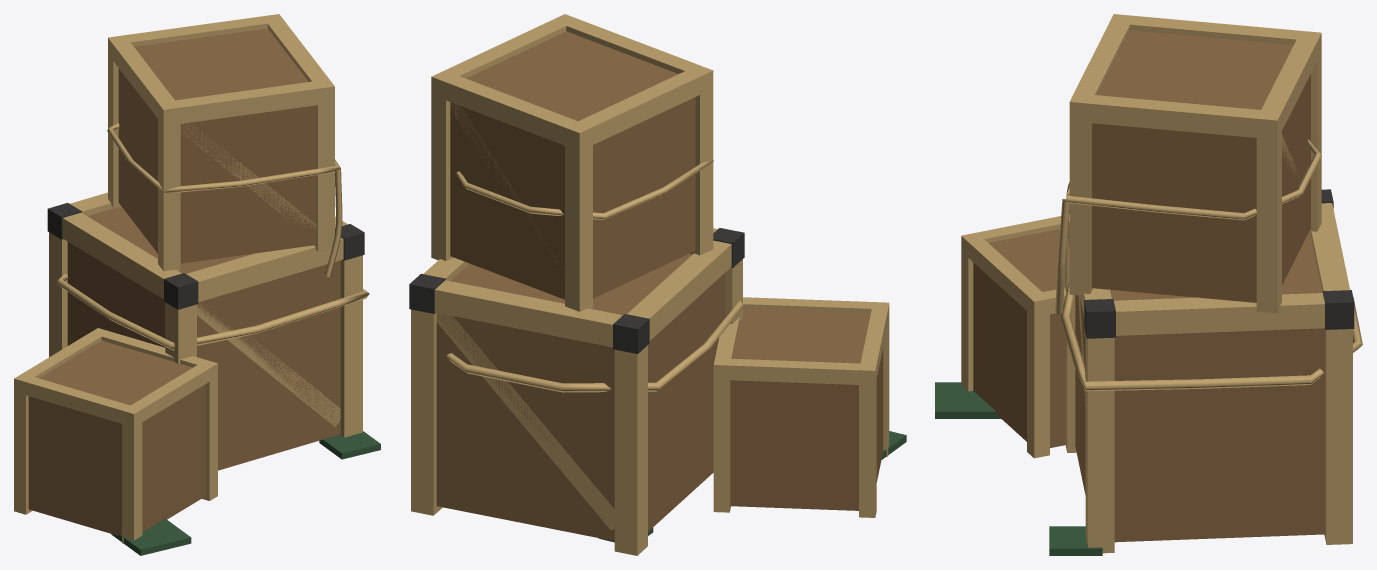
File: crate-stack.glb
3 views of the same model, side by side, from view 1: azimuth 30°, elevation 25°; view 2: azimuth 150°, elevation 25°; view 3: azimuth 270°, elevation 25° (orthographic). The views are drawn at different scales.
Parts seen in each view (by area): view 1: Mesh_Crate2_Core, Mesh_Crate1_Core, Mesh_Crate3_Core, Mesh_Crate1_RailTopX1, Mesh_Crate1_Pillar0, Mesh_Crate2_Pillar2, Mesh_Crate1_RailTopZ2, Mesh_Crate2_RailTopX1, Mesh_Crate2_Pillar0, Mesh_Crate3_Pillar2, Mesh_Crate1_Brace1, Mesh_Crate1_Rope (+21 smaller); view 2: Mesh_Crate1_Core, Mesh_Crate2_Core, Mesh_Crate3_Core, Mesh_Crate1_Pillar3, Mesh_Crate1_RailTopX2, Mesh_Crate1_Pillar1, Mesh_Crate2_Pillar3, Mesh_Crate1_Brace2, Mesh_Crate1_RailTopZ2, Mesh_Crate2_Pillar1, Mesh_Crate2_RailTopX2, Mesh_Crate2_Pillar2 (+18 smaller); view 3: Mesh_Crate1_Core, Mesh_Crate2_Core, Mesh_Crate3_Core, Mesh_Crate1_RailTopZ1, Mesh_Crate1_Pillar0, Mesh_Crate1_Pillar1, Mesh_Crate2_Pillar1, Mesh_Crate2_RailTopZ1, Mesh_Crate2_Pillar0, Mesh_Crate3_Pillar0, Mesh_Crate1_Rope, Mesh_Crate2_RailTopZ2 (+14 smaller).
Part boxes in pixels (x1,y1,x2,y2): Mesh_Crate2_Core: (118, 28, 316, 263); Mesh_Crate1_Core: (67, 207, 340, 470); Mesh_Crate3_Core: (28, 340, 205, 535); Mesh_Crate1_RailTopX1: (186, 237, 343, 302); Mesh_Crate1_Pillar0: (340, 255, 362, 437); Mesh_Crate2_Pillar2: (158, 100, 180, 271); Mesh_Crate1_RailTopZ2: (62, 212, 181, 299); Mesh_Crate2_RailTopX1: (175, 81, 317, 123); Mesh_Crate2_Pillar0: (312, 79, 334, 251); Mesh_Crate3_Pillar2: (122, 405, 142, 543); Mesh_Crate1_Brace1: (197, 303, 340, 426); Mesh_Crate1_Rope: (56, 274, 369, 350); Mesh_Crate1_Core: (436, 253, 725, 540); Mesh_Crate2_Core: (450, 31, 695, 299); Mesh_Crate3_Core: (730, 308, 883, 510); Mesh_Crate1_Pillar3: (614, 345, 647, 555); Mesh_Crate1_RailTopX2: (434, 280, 622, 347); Mesh_Crate1_Pillar1: (411, 309, 442, 515); Mesh_Crate2_Pillar3: (565, 121, 592, 311); Mesh_Crate1_Brace2: (436, 313, 614, 530); Mesh_Crate1_RailTopZ2: (627, 240, 731, 340); Mesh_Crate2_Pillar1: (431, 70, 458, 260); Mesh_Crate2_RailTopX2: (446, 76, 577, 145); Mesh_Crate2_Pillar2: (685, 65, 713, 255); Mesh_Crate1_Core: (1075, 233, 1325, 542); Mesh_Crate2_Core: (1091, 30, 1310, 302); Mesh_Crate3_Core: (973, 229, 1066, 447); Mesh_Crate1_RailTopZ1: (1114, 293, 1324, 335); Mesh_Crate1_Pillar0: (1085, 334, 1114, 553); Mesh_Crate1_Pillar1: (1324, 329, 1352, 544); Mesh_Crate2_Pillar1: (1256, 110, 1281, 313); Mesh_Crate2_RailTopZ1: (1090, 95, 1260, 137); Mesh_Crate2_Pillar0: (1069, 93, 1094, 295); Mesh_Crate3_Pillar0: (1027, 292, 1049, 458); Mesh_Crate1_Rope: (1060, 282, 1362, 391); Mesh_Crate2_RailTopZ2: (1130, 16, 1300, 44).
Size of the model in its own units: 1.75 by 1.8 by 1.61.
